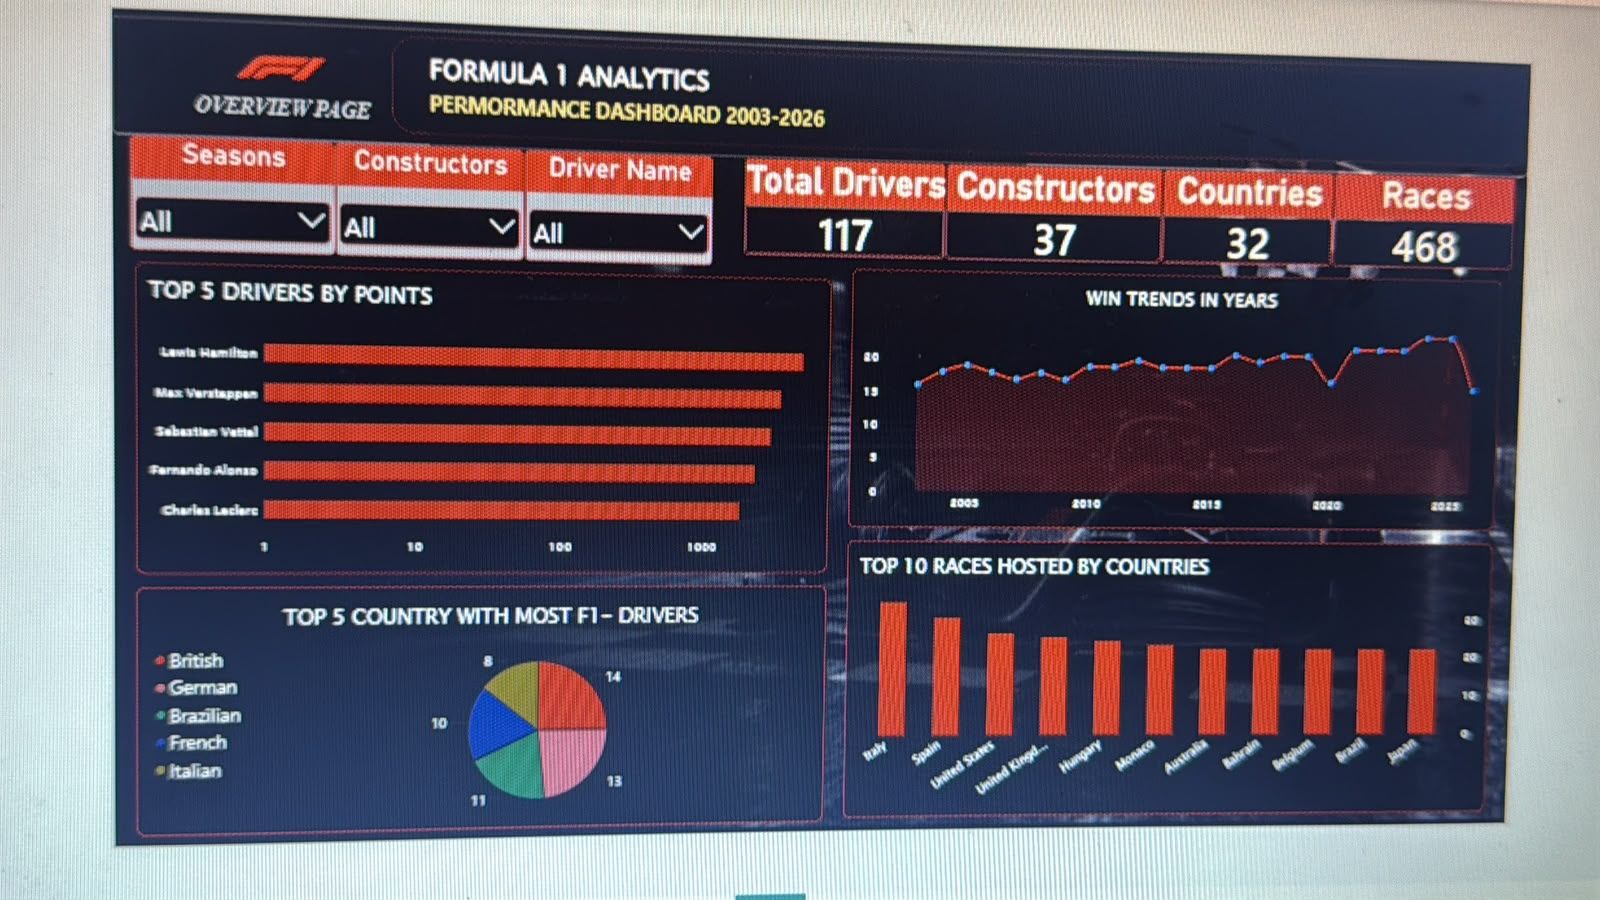

The page's visual inventory and layout, read from the dashboard file:
{"tool":"powerbi","page":{"name":"Overview","canvas":[1920,1080],"ordinal":0},"visuals":[{"type":"textbox","box":[0,10.8,1920.2,149],"z":0},{"type":"cardVisual","title":"Total Drivers","fields":{"Data":["Count(f1_main.driver_name)"]},"box":[788.4,159.8,276.5,129.6],"z":1000},{"type":"cardVisual","title":" Constructors","fields":{"Data":["Count(f1_main.constructor_name)"]},"box":[1064.9,159.8,308.9,129.6],"z":2000},{"type":"cardVisual","title":"Countries","fields":{"Data":["Count(f1_main.driver_nationality)"]},"box":[1373.8,159.8,263.5,129.6],"z":3000},{"type":"image","box":[25.9,0,369.4,164.2],"z":4000},{"type":"cardVisual","title":" Races","fields":{"Data":["Count(f1_main.race_date)"]},"box":[1637.3,159.8,248.4,131.8],"z":5000},{"type":"textbox","box":[58.3,101.5,306.7,62.6],"z":6000},{"type":"slicer","title":"Seasons","fields":{"Values":["f1_main.season"]},"box":[22.5,160,252.7,144.7],"z":7000},{"type":"slicer","title":"Constructors","fields":{"Values":["f1_main.constructor_name"]},"box":[275,160,241.9,144.7],"z":8000},{"type":"slicer","title":"Driver Name","fields":{"Values":["f1_main.driver_name"]},"box":[517.5,160,250,145],"z":9000},{"type":"clusteredBarChart","title":"TOP 5 DRIVERS BY POINTS","fields":{"Category":["f1_main.driver_name"],"Y":["Sum(f1_main.points)"]},"box":[26.7,320,900,435.6],"z":10000},{"type":"lineChart","title":"WINNING TRENDS BY SEASON","fields":{"Category":["f1_main.season"],"Y":["Sum(f1_main.is_win)"]},"box":[960,305,937.5,385],"z":11000},{"type":"columnChart","title":"TOP 10 COUNTRIES HOSTING F1-RACES","fields":{"Category":["f1_main.circuit_country"],"Y":["Count(f1_main.race_date)"]},"box":[960,695.6,937.8,373.3],"z":12000},{"type":"pieChart","title":"TOP 5 COUNTRY WITH MOST F1- DRIVERS","fields":{"Category":["f1_main.driver_nationality"],"Y":["Count(f1_main.driver_name)"]},"box":[26.7,768.9,900,293.3],"z":13000},{"type":"shape","box":[347.5,22.5,1572.5,125],"z":14000},{"type":"textbox","box":[395,37.5,802.5,122.5],"z":15000},{"type":"pageNavigator","title":"VIEWING..","box":[1146.7,37.8,706.7,102.2],"z":16001}]}

Visuals, with their boxes in screenshot pixels (x1, y1, x2, y2), scaled from the page's 1920x1080 canvas onto the 1600x900 screenshot:
textbox: 0 9 1599 133
"Total Drivers" cardVisual: 657 133 887 241
" Constructors" cardVisual: 887 133 1145 241
"Countries" cardVisual: 1145 133 1364 241
image: 22 0 329 137
" Races" cardVisual: 1364 133 1571 243
textbox: 49 85 304 137
"Seasons" slicer: 19 133 229 254
"Constructors" slicer: 229 133 431 254
"Driver Name" slicer: 431 133 640 254
"TOP 5 DRIVERS BY POINTS" clusteredBarChart: 22 267 772 630
"WINNING TRENDS BY SEASON" lineChart: 800 254 1581 575
"TOP 10 COUNTRIES HOSTING F1-RACES" columnChart: 800 580 1582 891
"TOP 5 COUNTRY WITH MOST F1- DRIVERS" pieChart: 22 641 772 885
shape: 290 19 1599 123
textbox: 329 31 998 133
"VIEWING.." pageNavigator: 956 32 1545 117
